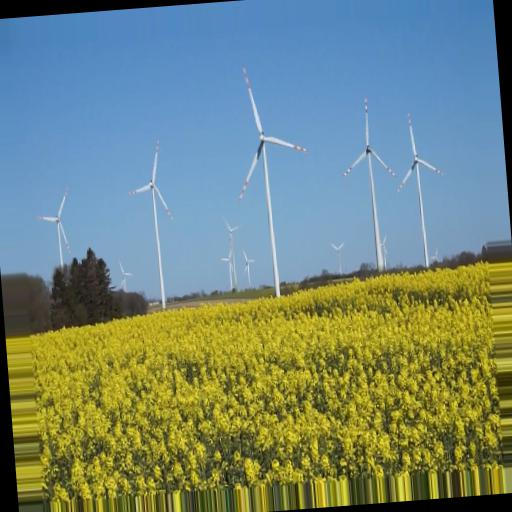wind turbine: (238, 64, 309, 299), (340, 97, 399, 274), (127, 139, 175, 314), (398, 109, 447, 266), (38, 184, 72, 272)
